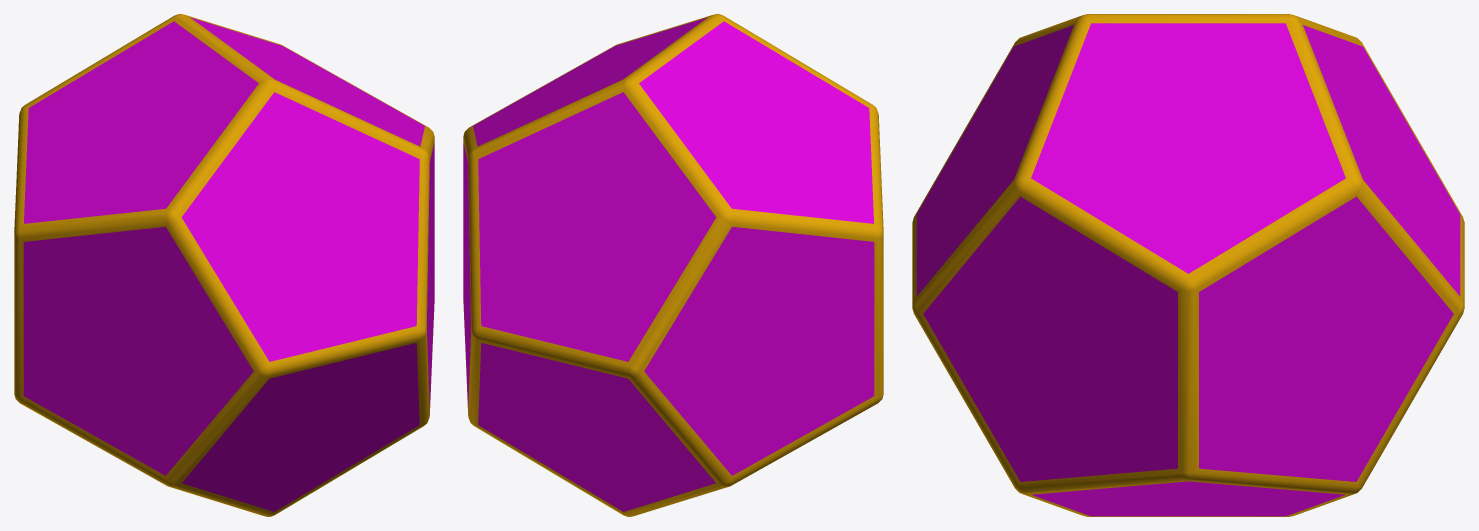
The model's file is prp_D12.fbx.
The picture shows the model from 3 angles, left to right: view 1: azimuth 30°, elevation 25°; view 2: azimuth 150°, elevation 25°; view 3: azimuth 270°, elevation 25°; orthographic projection. The views are drawn at different scales.
Parts seen in each view (by area): view 1: prp_D12; view 2: prp_D12; view 3: prp_D12.
Part boxes in pixels (box(x1,y1,x2,y2)): prp_D12: box(14, 14, 434, 516); prp_D12: box(463, 14, 883, 516); prp_D12: box(912, 14, 1464, 516).
Bounding box in the file's own units: 0.8729 × 0.8729 × 0.8729.
